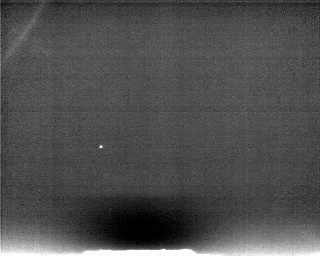BIRD: (96, 142, 105, 153)
